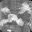people: (19, 2, 29, 14), (8, 14, 18, 23), (0, 18, 11, 26), (1, 7, 10, 15), (17, 18, 25, 27)
